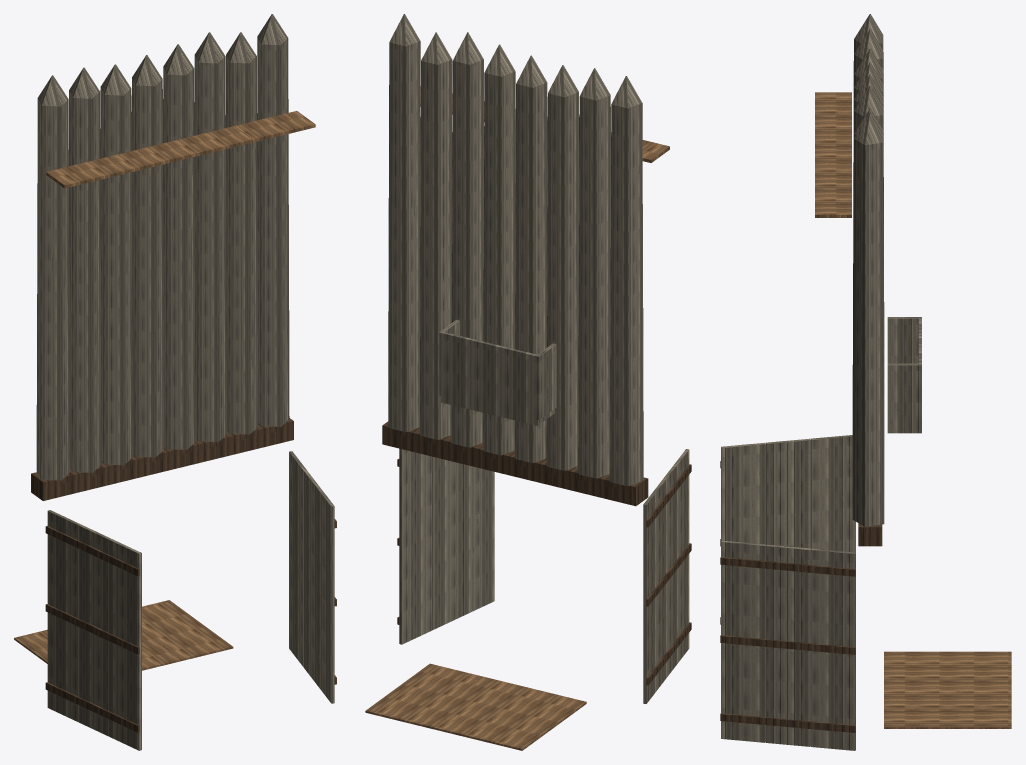
Rendered from Gate_Rampart_Wood_1_LOD1.gltf.
The picture shows the model from 3 angles, left to right: view 1: azimuth 30°, elevation 25°; view 2: azimuth 150°, elevation 25°; view 3: azimuth 270°, elevation 25°; orthographic projection.
Visible parts, largest first — view 1: Gate_Rampart_Wood_1_LOD1; view 2: Gate_Rampart_Wood_1_LOD1; view 3: Gate_Rampart_Wood_1_LOD1.
Boxes of the visible parts, x1,y1,x2,y2 form: Gate_Rampart_Wood_1_LOD1: (14, 14, 336, 750); Gate_Rampart_Wood_1_LOD1: (365, 14, 691, 750); Gate_Rampart_Wood_1_LOD1: (720, 14, 1011, 750).
Bounding box in the file's own units: 8.4 × 20.19 × 8.45.
Materials: 3 (3 with a texture image).
